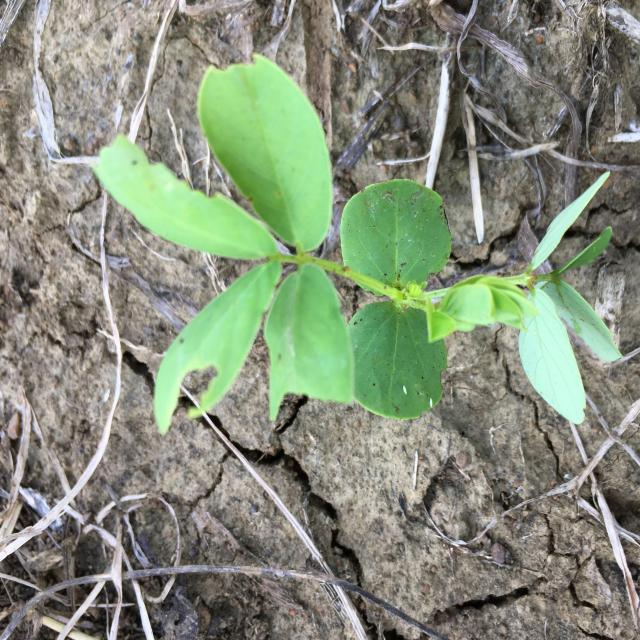Sicklepod: (91, 54, 624, 438)
